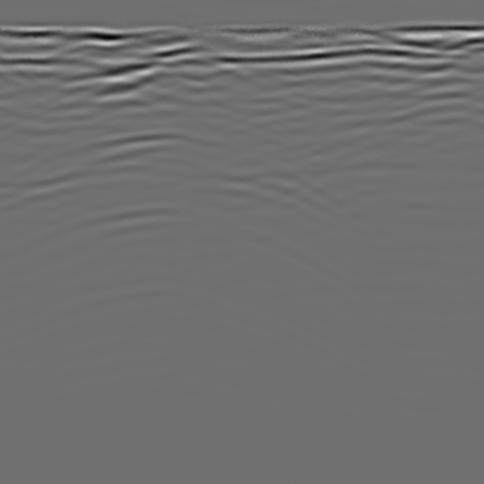hyperbola: (25, 119, 294, 255)
